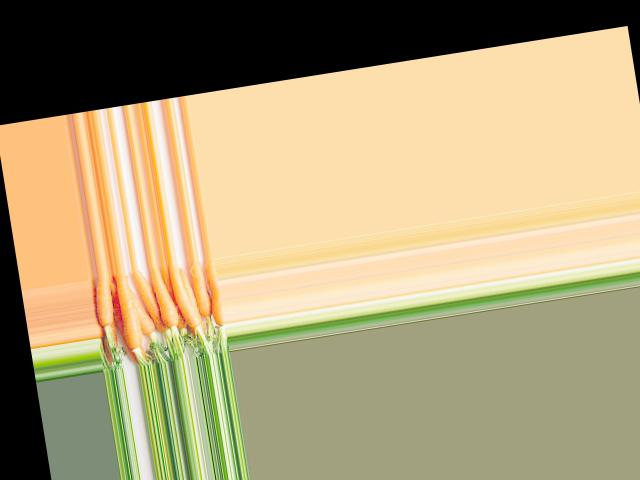carrot: (89, 273, 117, 337)
